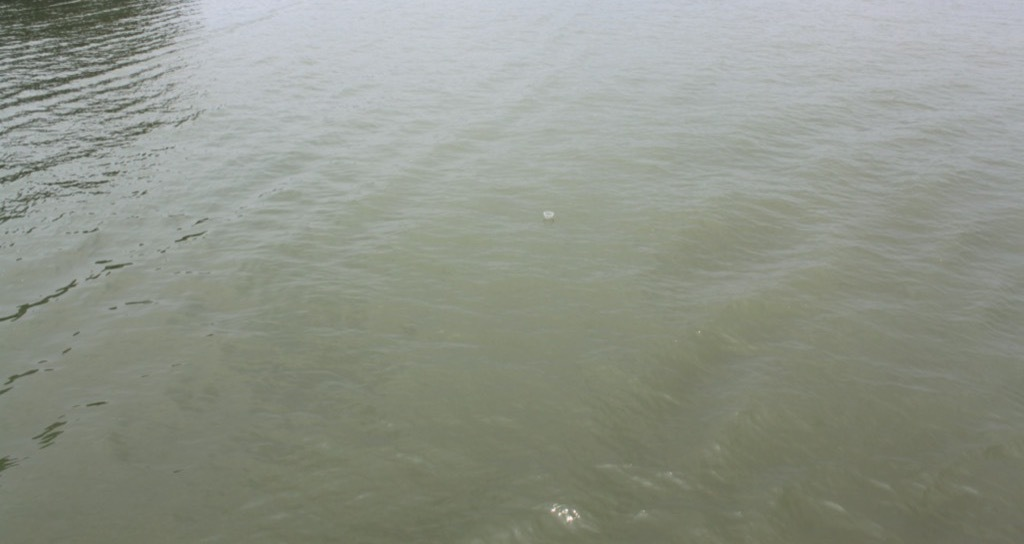plastic: (527, 190, 567, 234)
structure: (1, 1, 221, 494)
